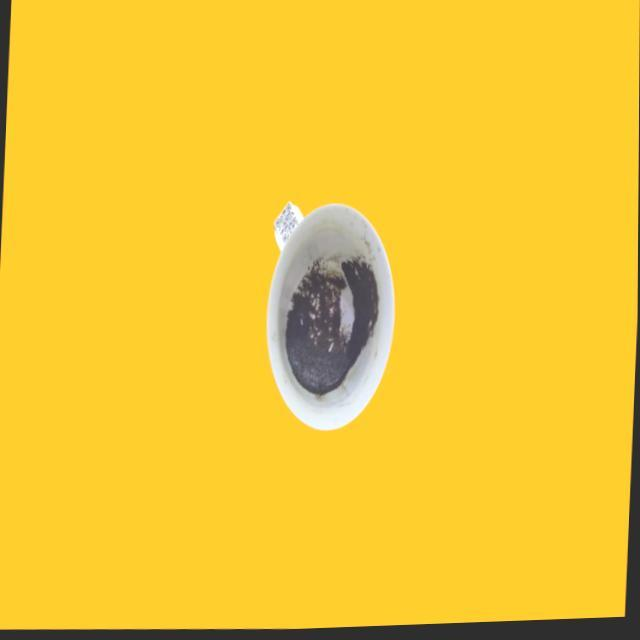cup: (260, 192, 401, 442)
